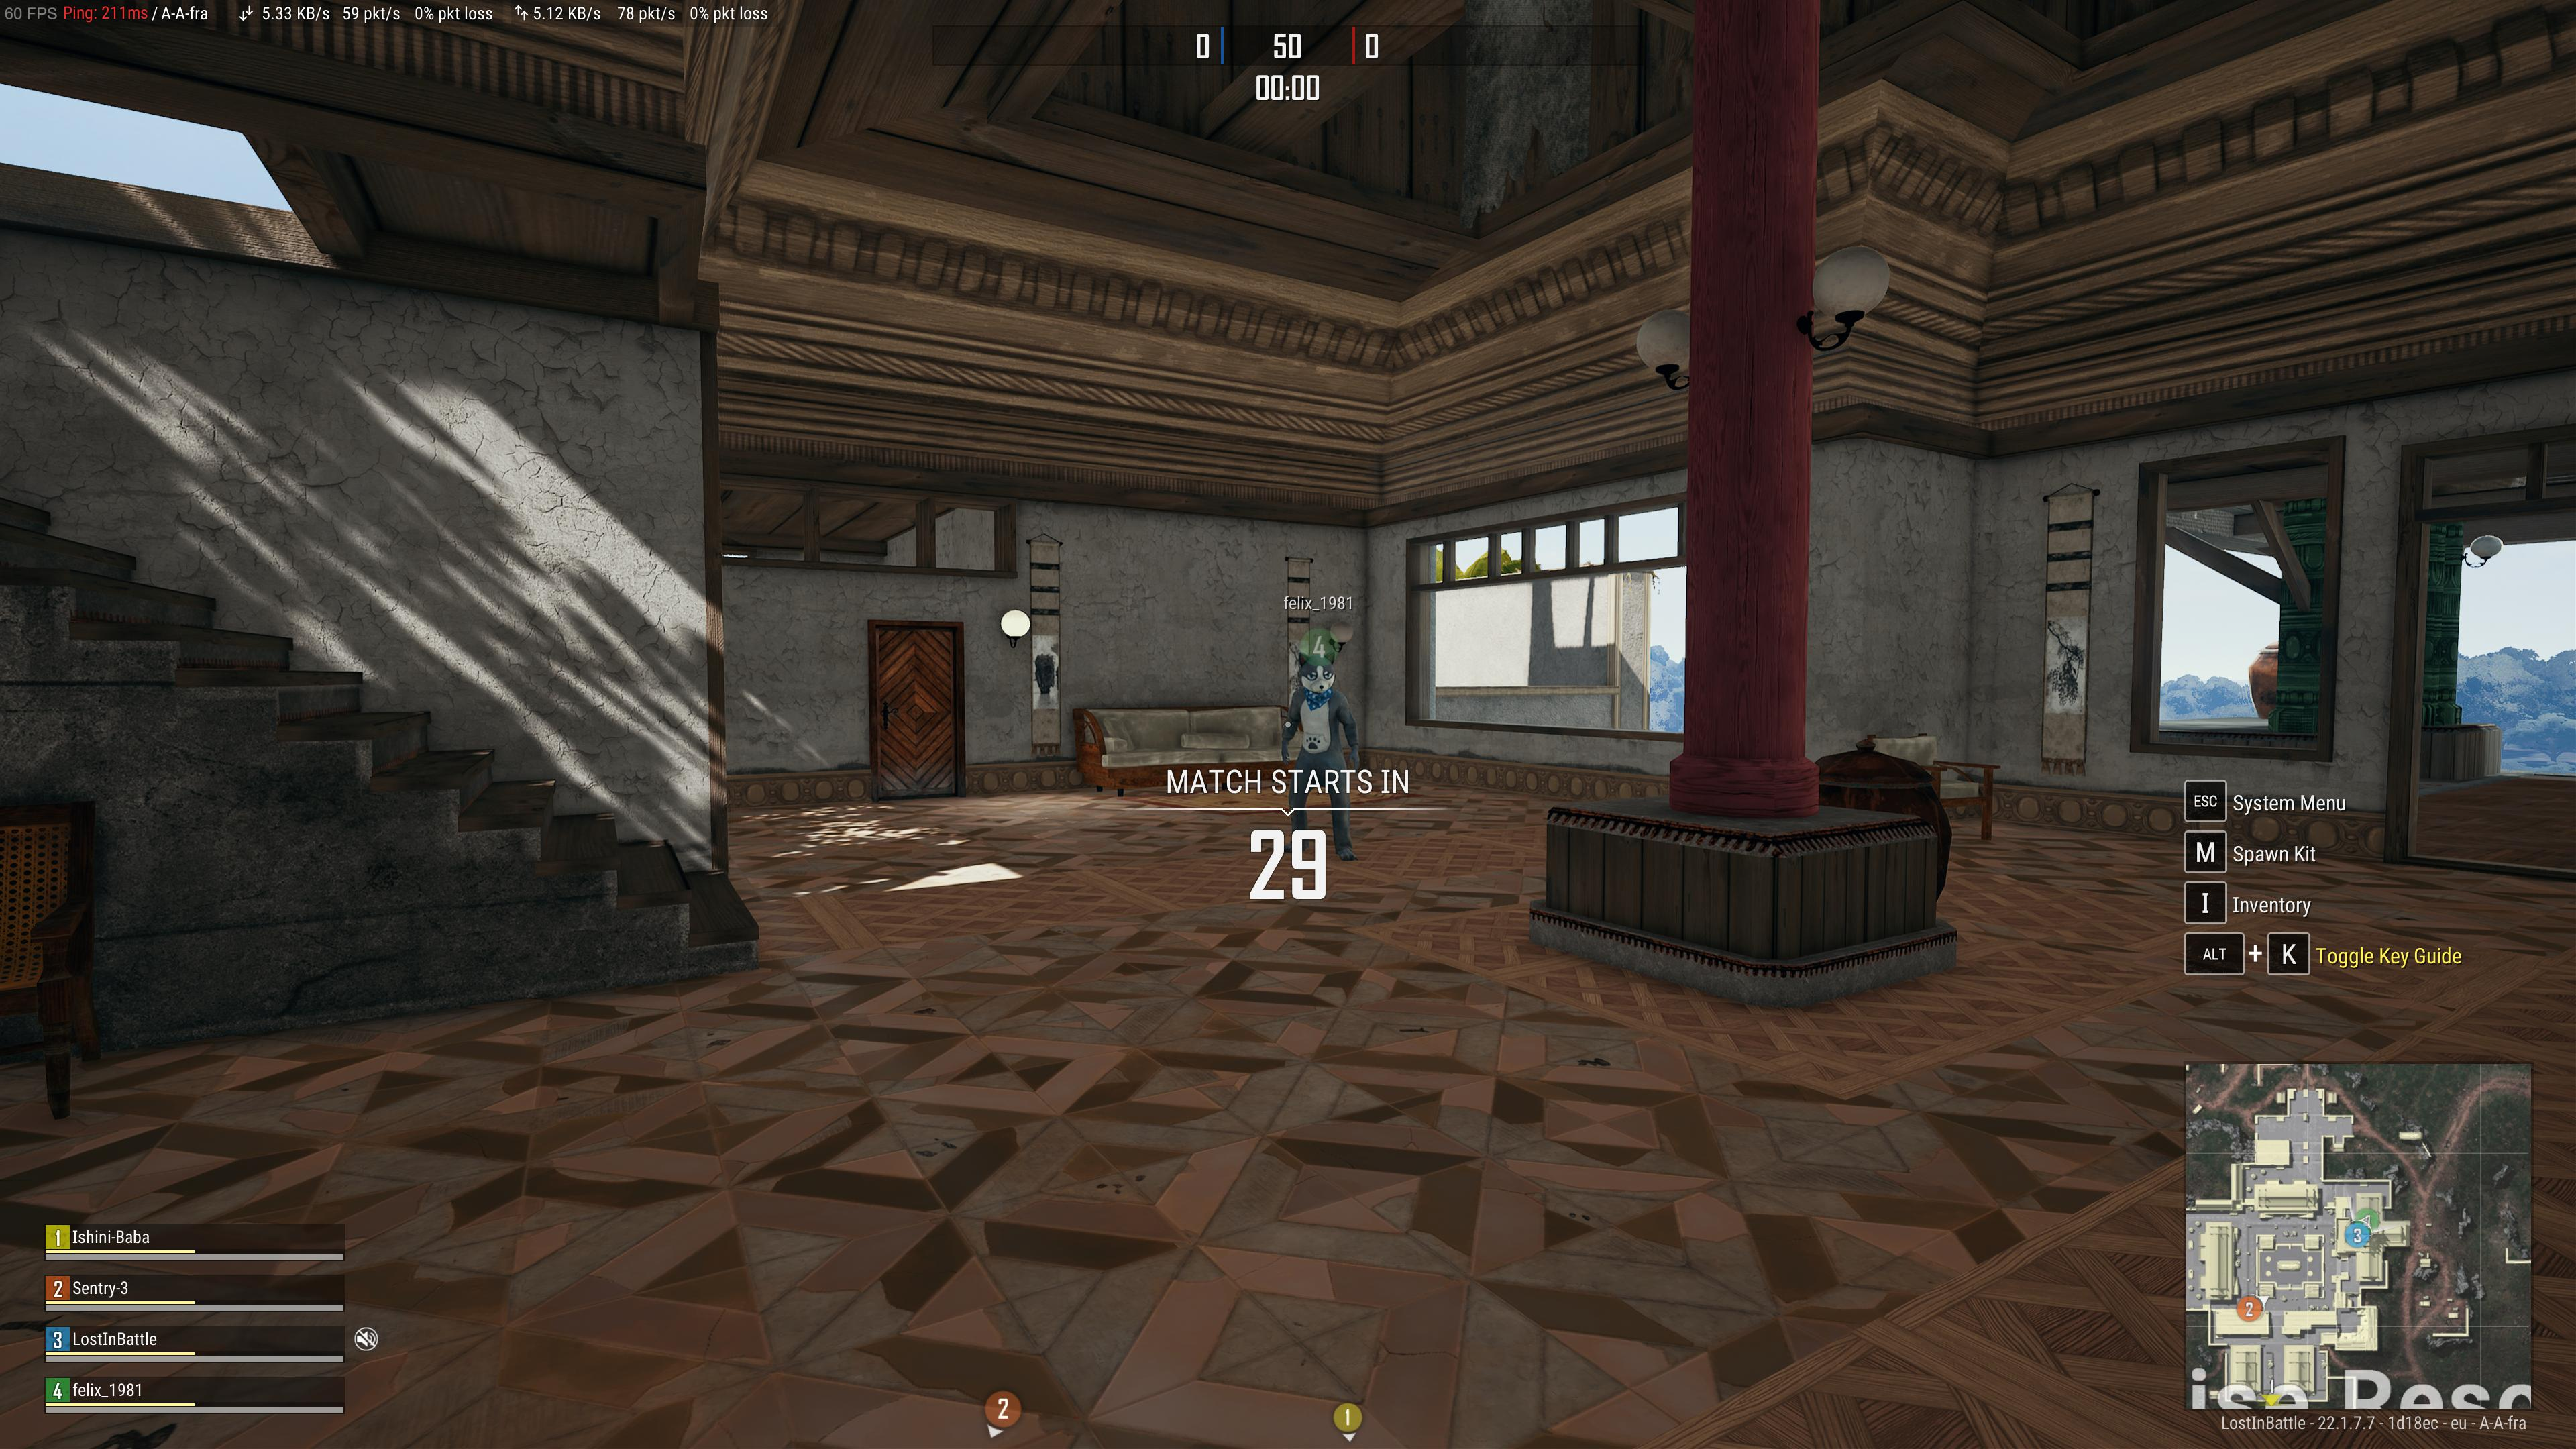friendly: (1277, 637, 1368, 863)
